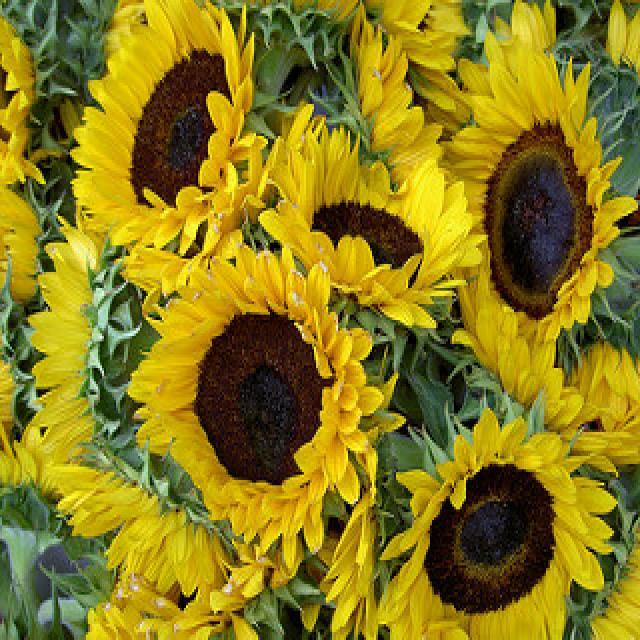sunflower: (127, 251, 385, 567), (443, 50, 638, 339), (377, 410, 616, 640), (72, 2, 255, 252), (262, 125, 480, 326), (452, 255, 620, 489), (41, 462, 234, 596), (29, 218, 98, 460), (431, 0, 556, 129), (351, 21, 447, 184), (371, 0, 461, 111), (567, 341, 640, 460), (1, 13, 44, 187), (591, 522, 640, 640), (0, 186, 41, 302), (82, 589, 173, 640), (604, 1, 640, 71)
